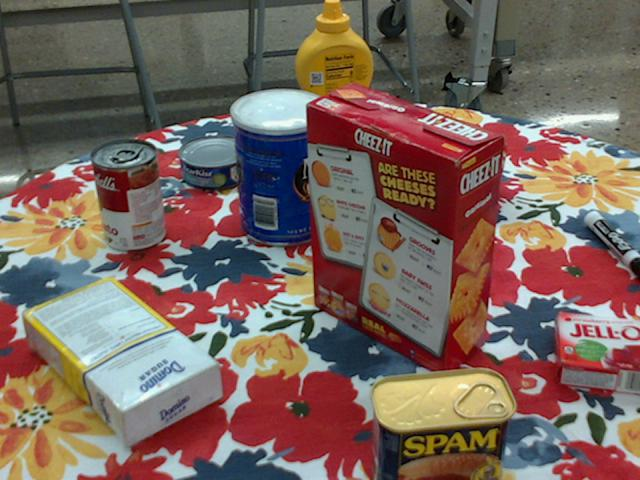cracker_box: (305, 85, 502, 379)
gelatin_box: (553, 312, 639, 392)
large_marker: (583, 209, 639, 278)
master_chef_can: (230, 88, 329, 246)
mug: (417, 120, 504, 207)
mustard_bottle: (294, 0, 373, 157)
potted_meat_can: (369, 368, 516, 479)
sugar_box: (23, 280, 221, 445)
tomato_soup_can: (91, 139, 164, 252)
tuna_fish_can: (179, 134, 251, 189)
